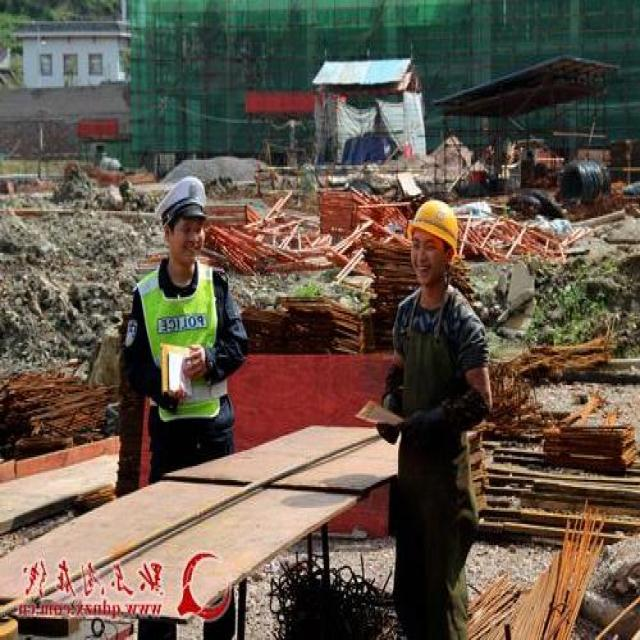Reflective-Jacket: (135, 264, 229, 424)
Safety-Helmet: (406, 197, 461, 250)
